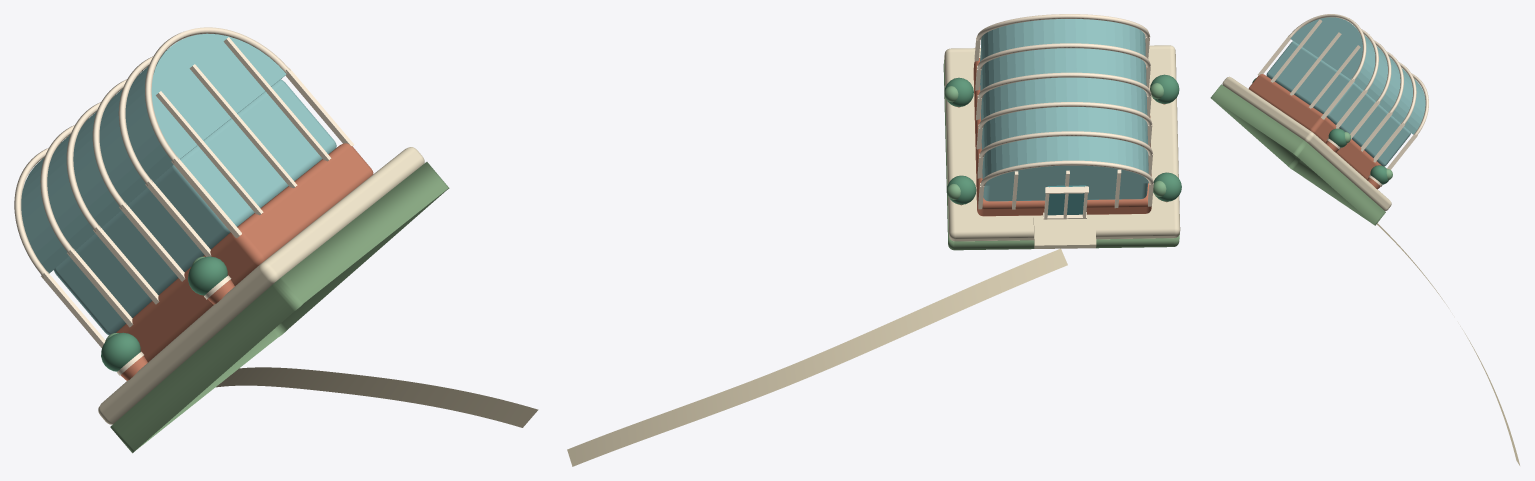
File: greenhouse.glb
3 renders of one model, left to right at view 1: azimuth 30°, elevation 25°; view 2: azimuth 150°, elevation 25°; view 3: azimuth 270°, elevation 25°, orthographic. The views are drawn at different scales.
Visible parts, largest first — view 1: greenhouse (×7); view 2: greenhouse (×9); view 3: greenhouse (×7).
Part boxes in pixels (left/top/right/bottom): greenhouse (×7): left=14, top=27, right=538, bottom=453; greenhouse (×9): left=567, top=14, right=1181, bottom=466; greenhouse (×7): left=1210, top=14, right=1519, bottom=465.
Size of the model in its own units: 0.7771 by 0.7134 by 0.6267.
